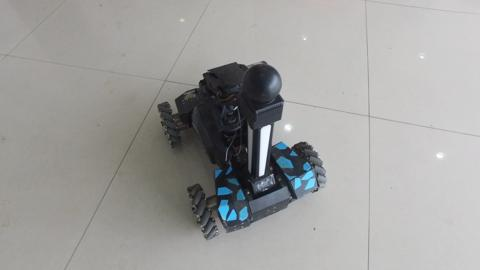chariot: (148, 53, 326, 240)
